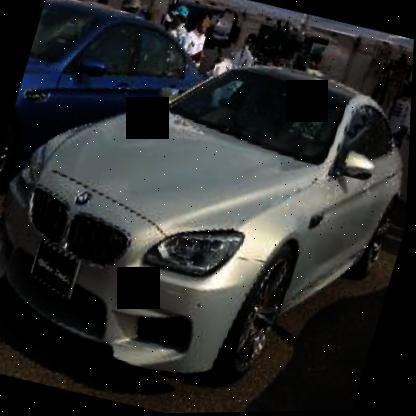not_emergency: (0, 16, 414, 415)
